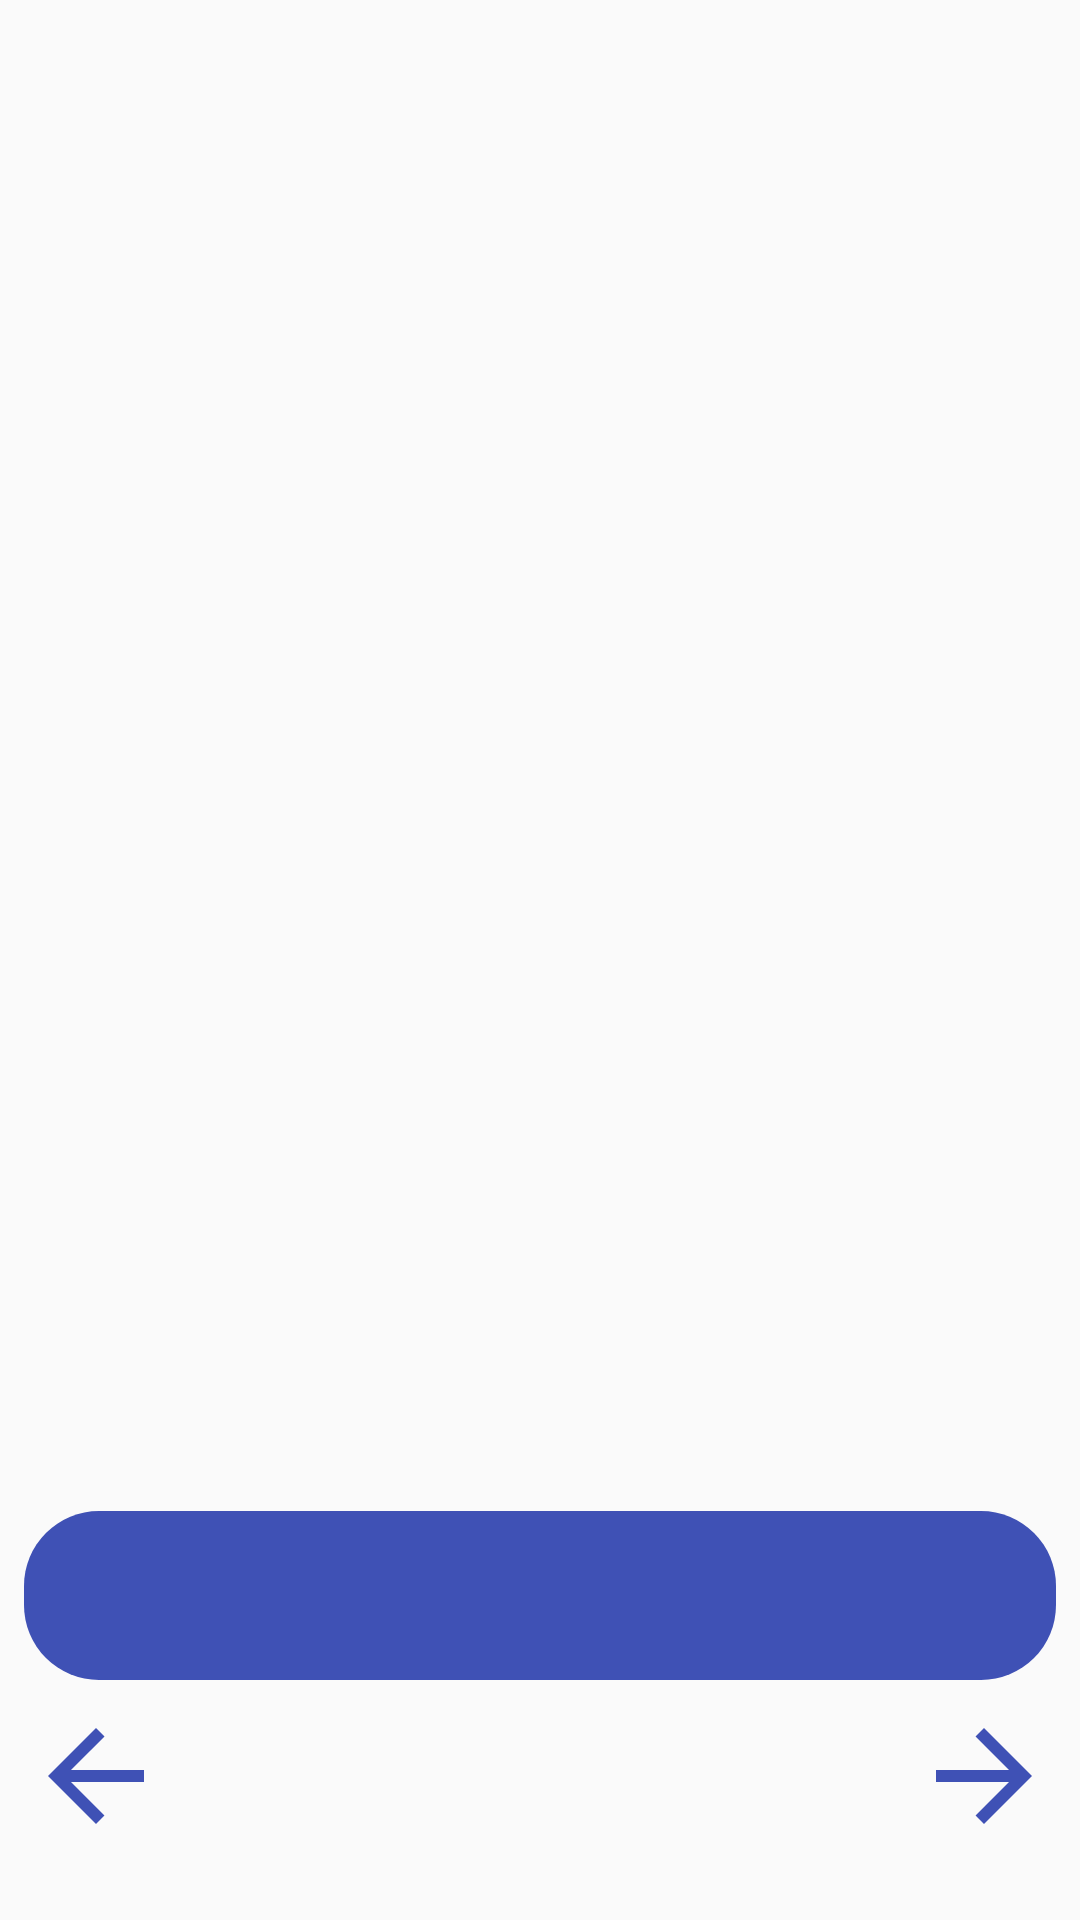

Screen size 1080 x 1920. Icon name, then its center in pixels as point (x, y):
arrow back: point (96, 1776)
arrow forward: point (984, 1776)
